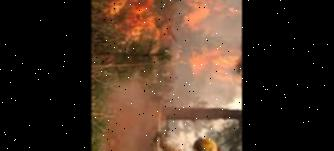fire: (91, 0, 242, 75)
